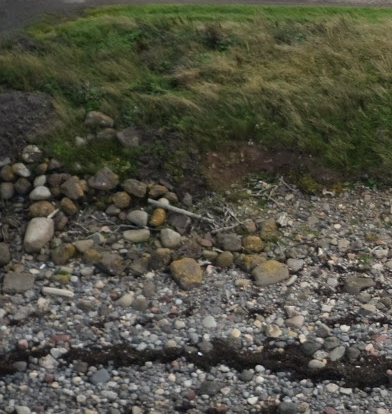straight_bar: (145, 195, 216, 224)
